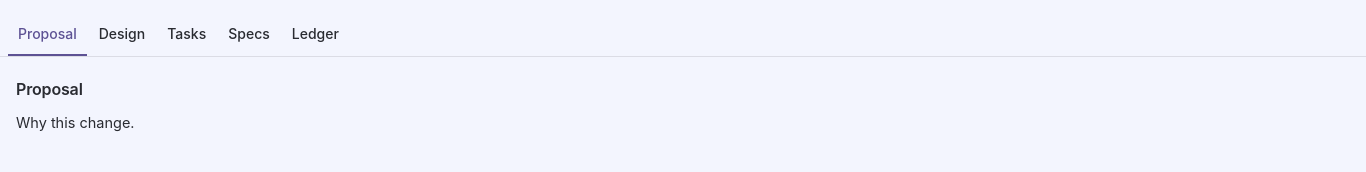
Scenario: ArtifactTabs › switches tabs on click and writes the active tab to the URL hash
The image size is (1366, 172).
Click the tab "Ledger": (315,34) x1=282 y1=12 x2=349 y2=56
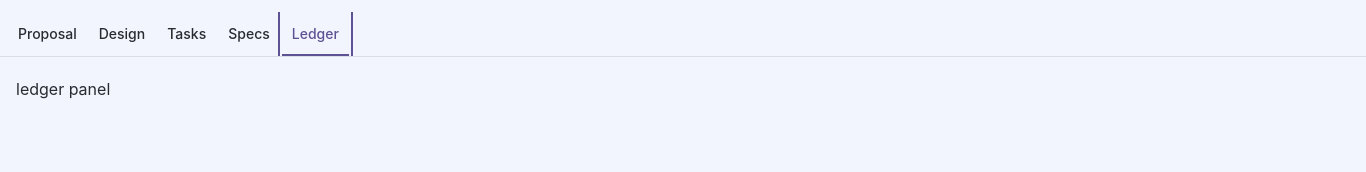
Expected: the text "ledger panel" is shown, x1=16 y1=79 x2=110 y2=99
